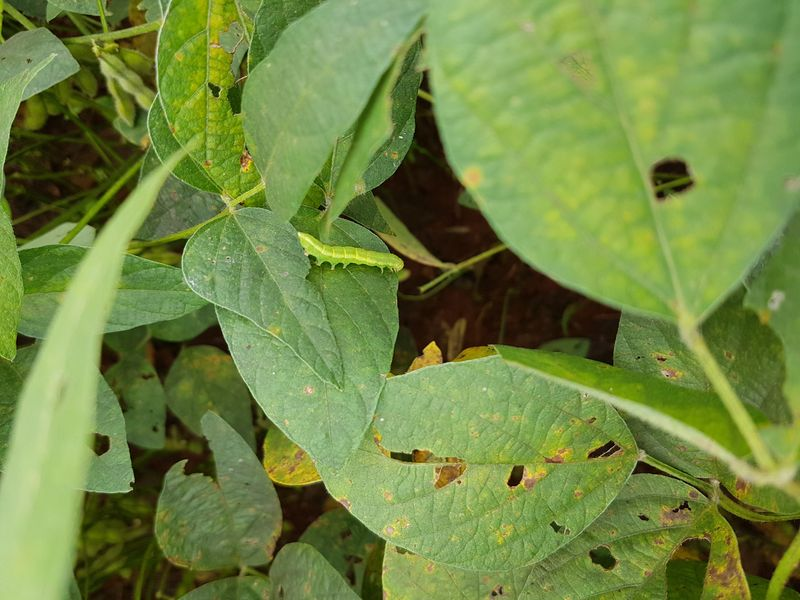Anticarsia_gemmatalis: (276, 201, 419, 306)
